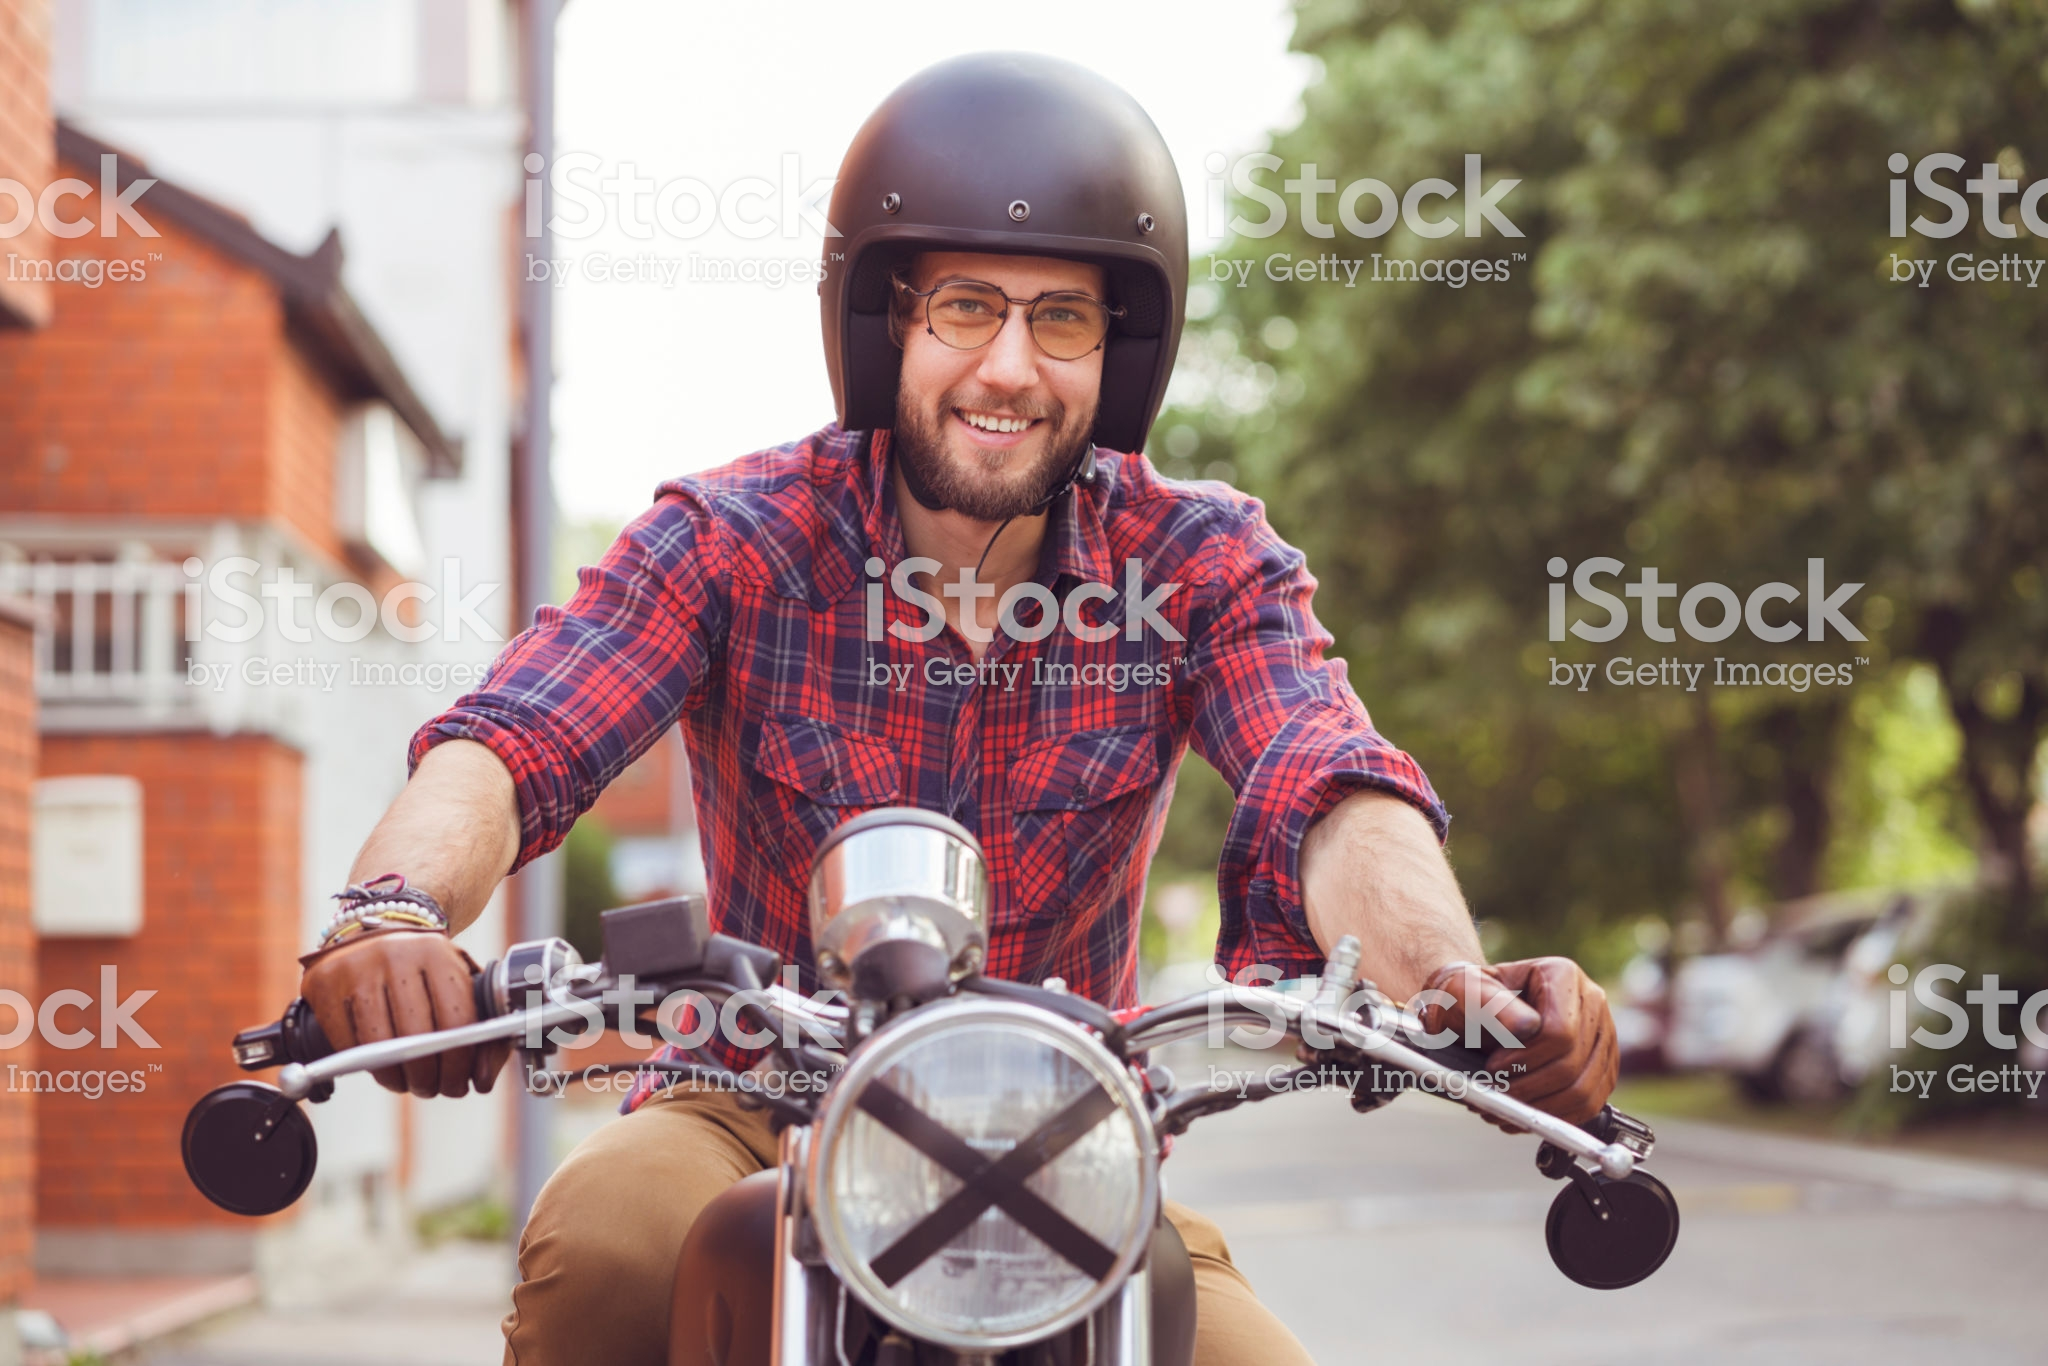helmet: (821, 67, 1213, 444)
